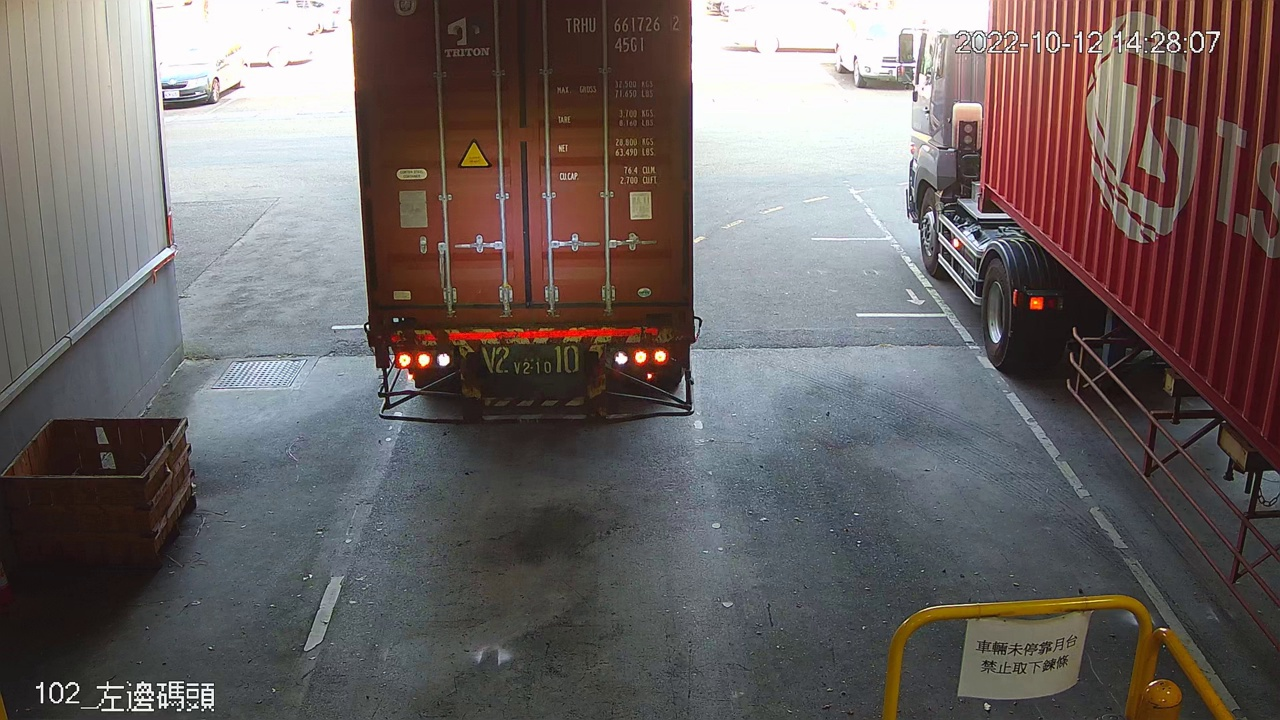container: (558, 9, 684, 58)
